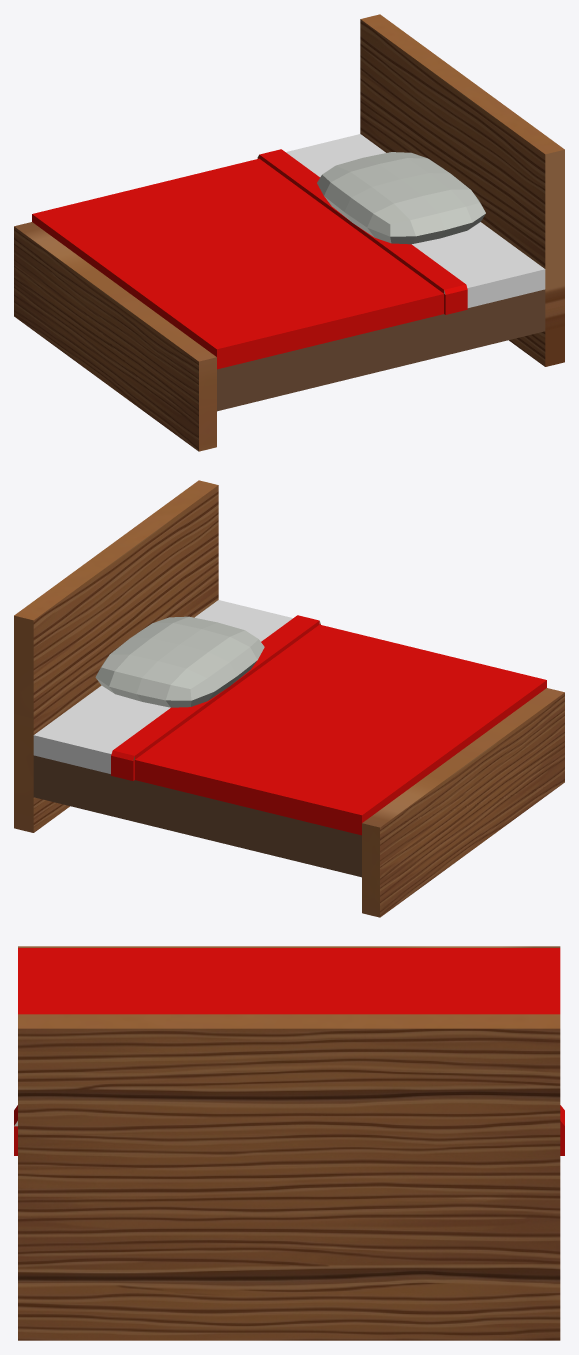
Rendered from Cama.fbx.
3 views of the same model, one above another, from view 1: azimuth 30°, elevation 25°; view 2: azimuth 150°, elevation 25°; view 3: azimuth 270°, elevation 25° (orthographic). The views are drawn at different scales.
Visible parts, largest first — view 1: Cama, Almohada; view 2: Cama, Almohada; view 3: Cama.
Boxes of the visible parts, box(x1,y1,x2,y2) form: Cama: box(14, 14, 564, 451); Almohada: box(317, 152, 485, 244); Cama: box(14, 480, 564, 917); Almohada: box(95, 616, 264, 707); Cama: box(14, 946, 564, 1340).
Bounding box in the file's own units: 91.48 × 50.8 × 81.31.
Materials: 5 (1 with a texture image).
